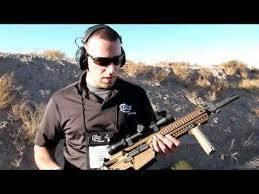gun: (98, 94, 240, 170)
